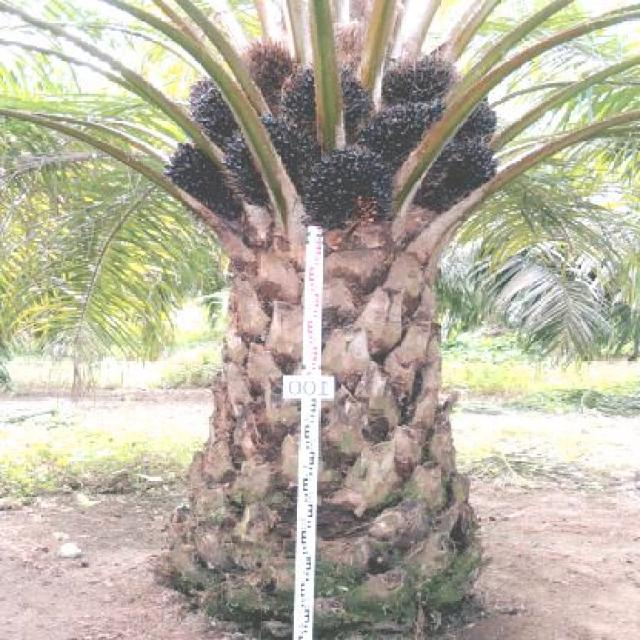palm-oil: (392, 135, 511, 216), (290, 147, 400, 225), (219, 120, 315, 208), (265, 64, 374, 136), (356, 100, 460, 172), (164, 139, 243, 226), (388, 45, 462, 120), (199, 74, 254, 150), (251, 32, 299, 104), (451, 88, 495, 144)
